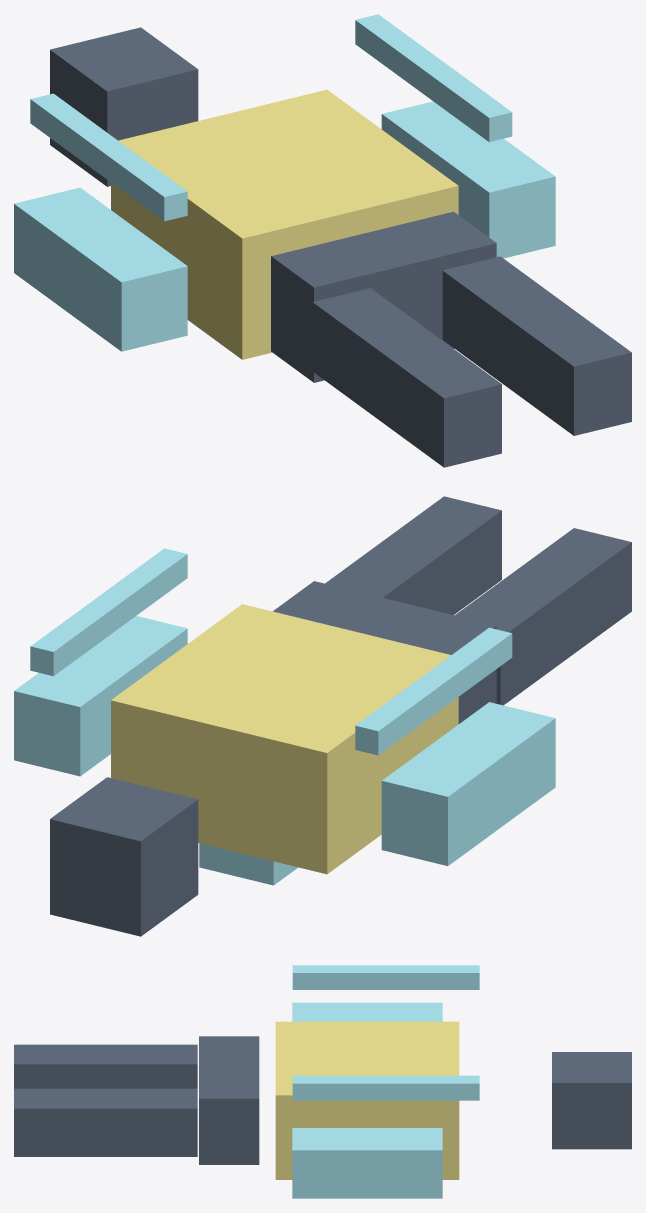
The model's file is juno-spark_female_victory.glb.
3 renders of one model, top to bottom at view 1: azimuth 30°, elevation 25°; view 2: azimuth 150°, elevation 25°; view 3: azimuth 270°, elevation 25°, orthographic. The views are drawn at different scales.
Visible parts, largest first — view 1: juno-spark_female_body; view 2: juno-spark_female_body; view 3: juno-spark_female_body.
Boxes of the visible parts, <box> form: juno-spark_female_body: <box>14,14,631,467</box>; juno-spark_female_body: <box>14,496,631,936</box>; juno-spark_female_body: <box>14,965,631,1198</box>.
Bounding box in the file's own units: 0.9355 × 0.435 × 1.65.
